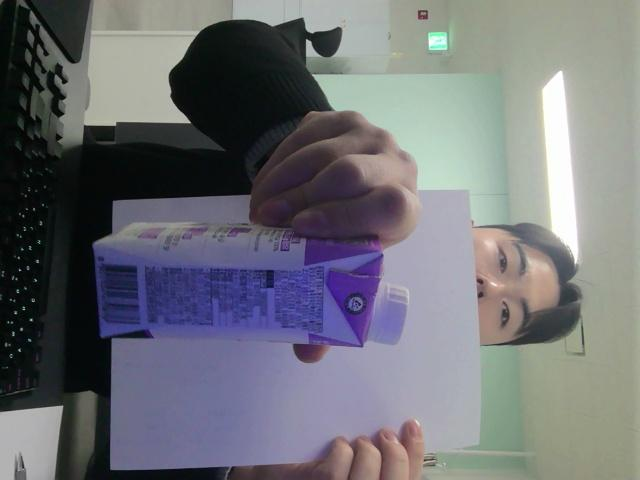milk: (95, 222, 408, 346)
